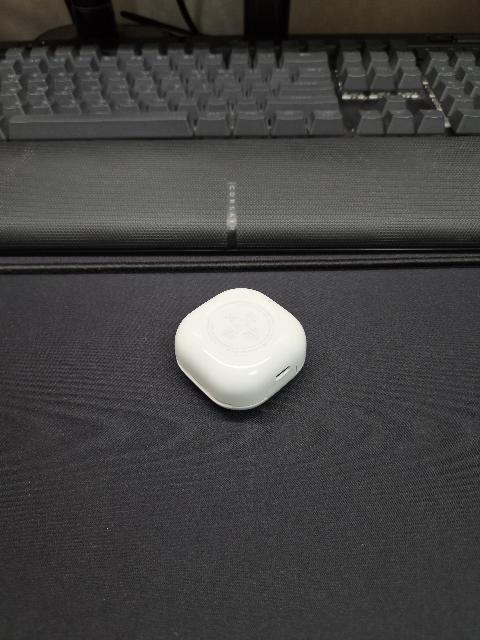earphone_case: (174, 287, 307, 410)
